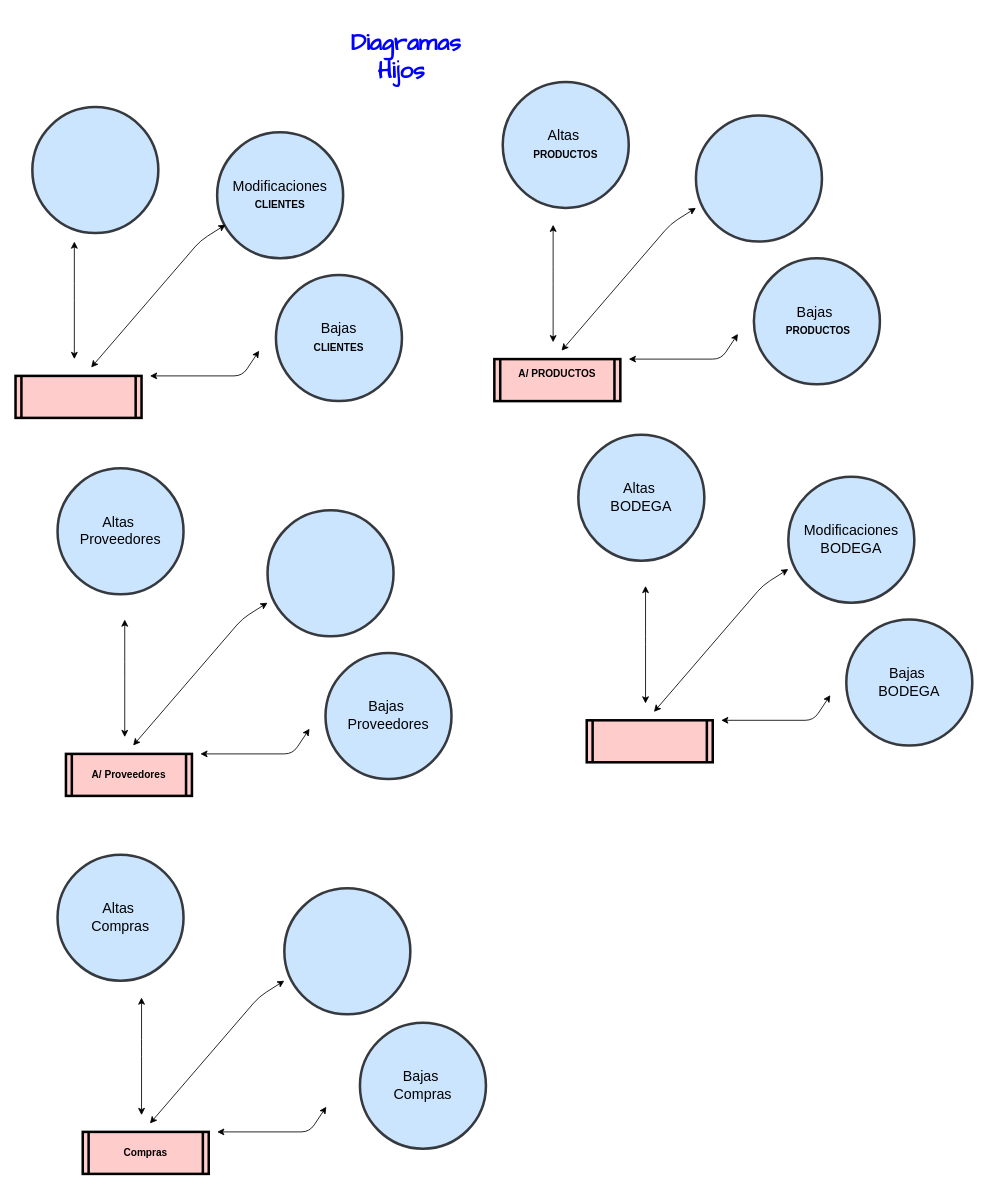
Image size: 988x1189. Some labels were removed from this diagram. The centre of each missing label's shape, as x and y in pixels:
A/ CLIENTES: pixel 78 396
Altas CLIENTES: pixel 95 169
BODEGA: pixel 649 741
Modificaciones Compras: pixel 347 951
Modificaciones PRODUCTOS: pixel 758 178
Modificaciones Proveedores: pixel 330 573
